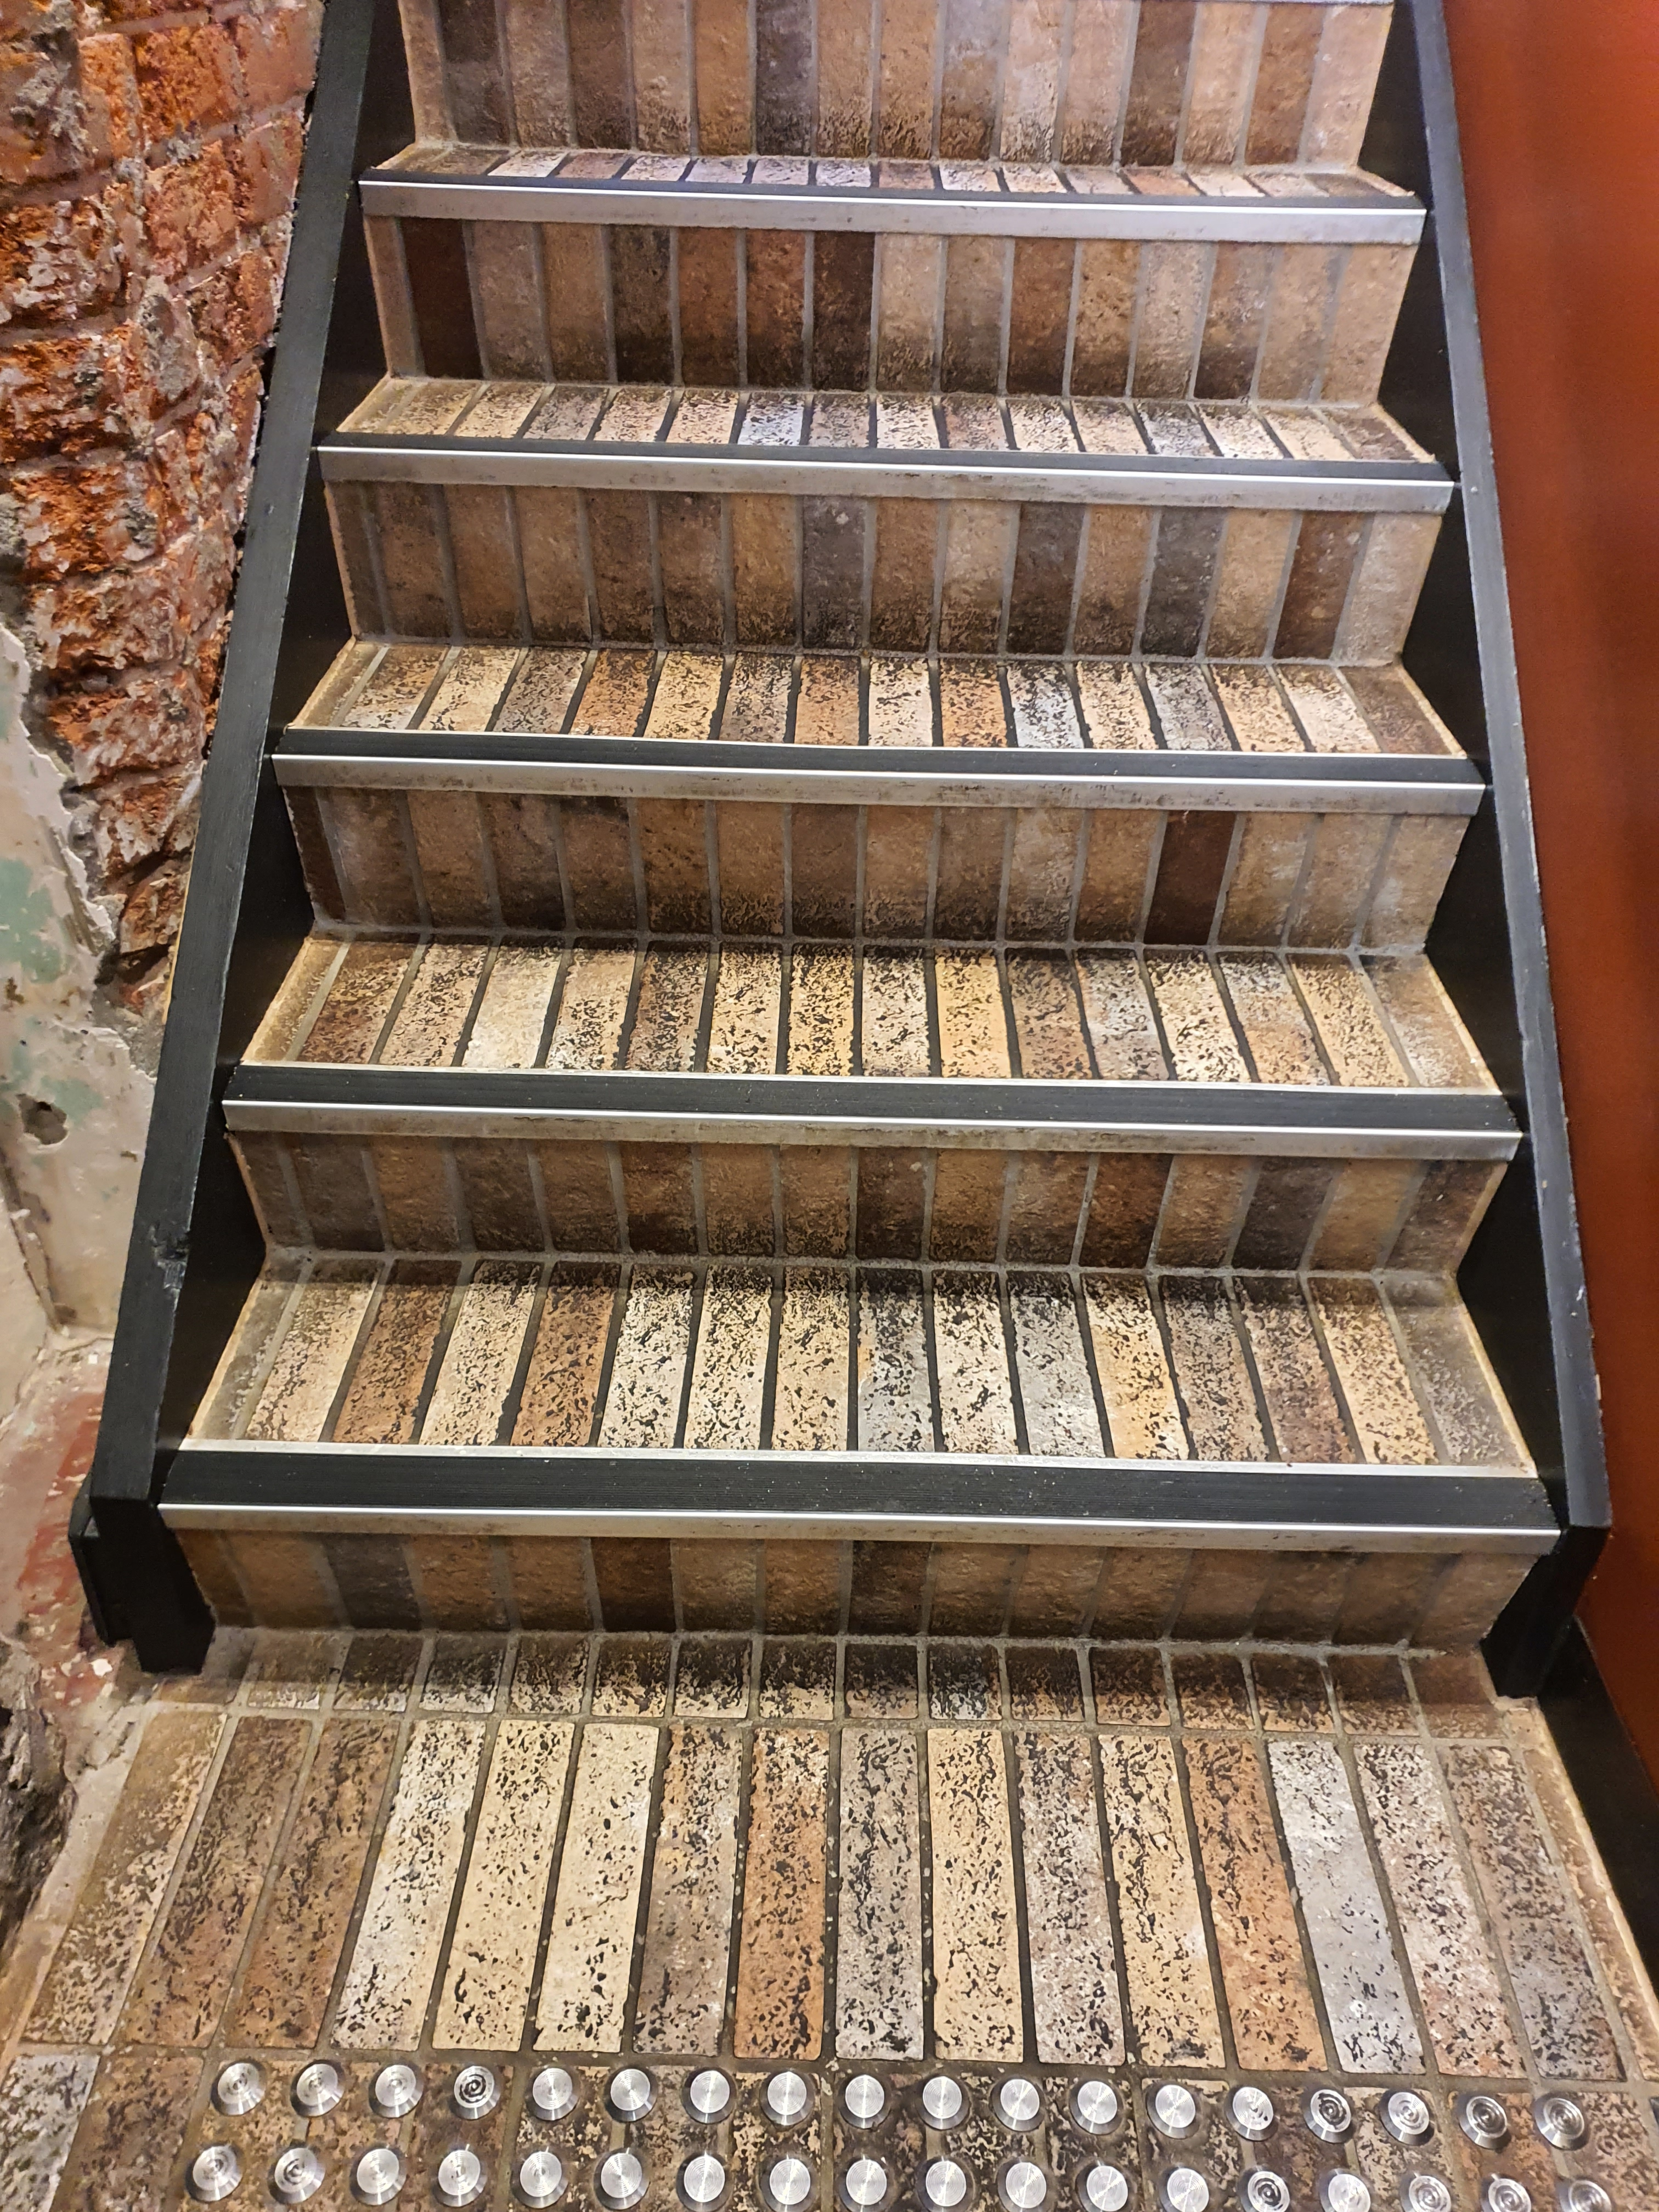upstairs: (354, 610, 1375, 2055)
